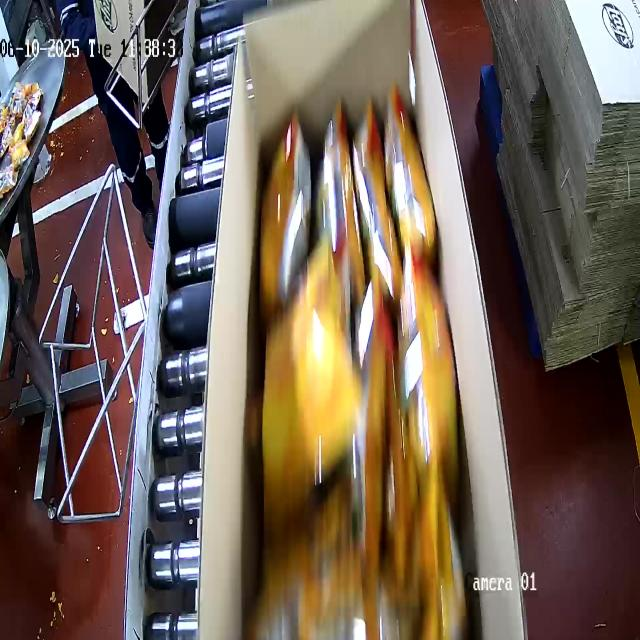FRENCH_CHEESE: (250, 124, 463, 640)
